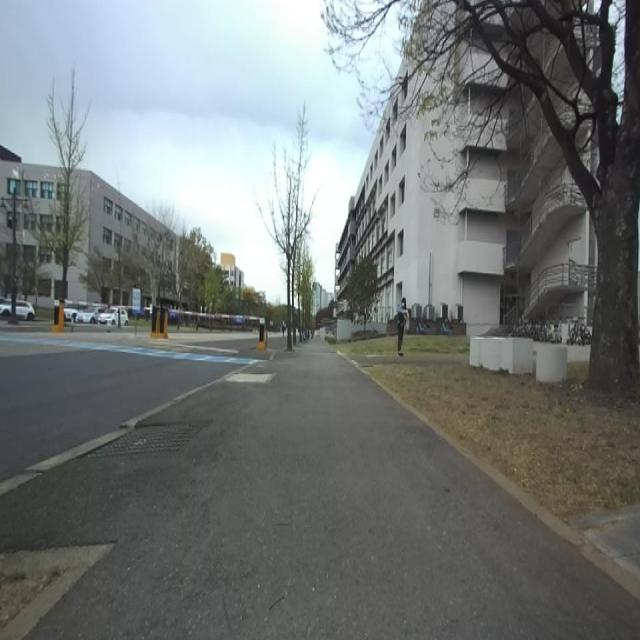sidewalk: (0, 342, 640, 639), (0, 376, 228, 495), (26, 429, 124, 472), (88, 423, 209, 456), (0, 472, 40, 496), (226, 372, 276, 383)
